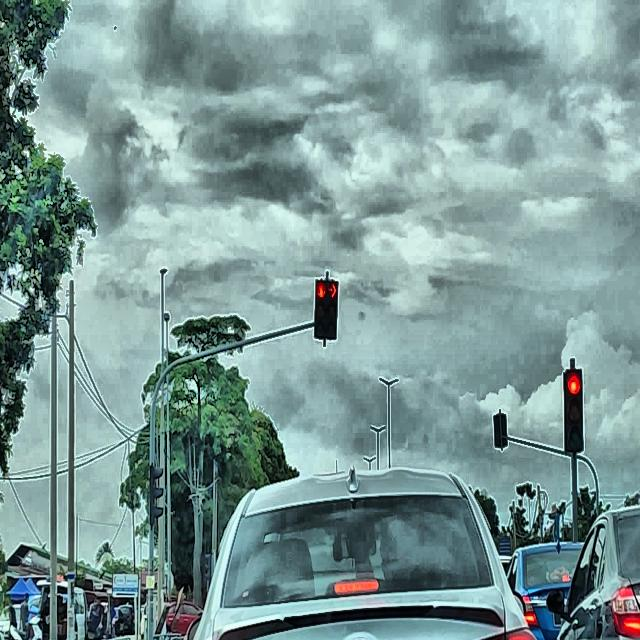red: (564, 369, 584, 452), (314, 278, 327, 338), (326, 279, 338, 340)
